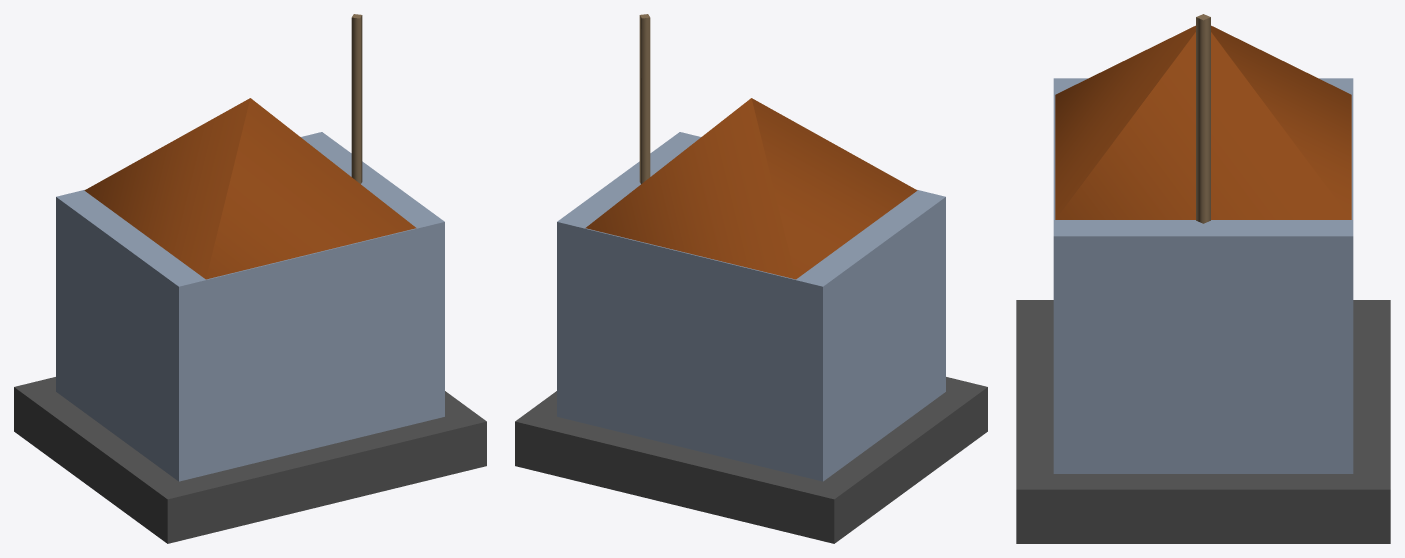
The model's file is town_center.glb.
The picture shows the model from 3 angles, left to right: view 1: azimuth 30°, elevation 25°; view 2: azimuth 150°, elevation 25°; view 3: azimuth 270°, elevation 25°; orthographic projection. The views are drawn at different scales.
Visible parts, largest first — view 1: node_1, node_2, node_0, node_3; view 2: node_1, node_2, node_0, node_3; view 3: node_1, node_2, node_0, node_3.
Part boxes in pixels (x1=…): node_1: x1=56, y1=132, x2=444, y2=481; node_2: x1=84, y1=98, x2=416, y2=279; node_0: x1=14, y1=377, x2=486, y2=543; node_3: x1=351, y1=14, x2=362, y2=183; node_1: x1=557, y1=132, x2=945, y2=481; node_2: x1=585, y1=98, x2=917, y2=279; node_0: x1=515, y1=377, x2=987, y2=543; node_3: x1=639, y1=14, x2=650, y2=183; node_1: x1=1053, y1=78, x2=1353, y2=473; node_2: x1=1055, y1=25, x2=1351, y2=219; node_0: x1=1016, y1=300, x2=1390, y2=543; node_3: x1=1196, y1=14, x2=1210, y2=223.
Bounding box in the file's own units: 0.6 × 0.73 × 0.5.
